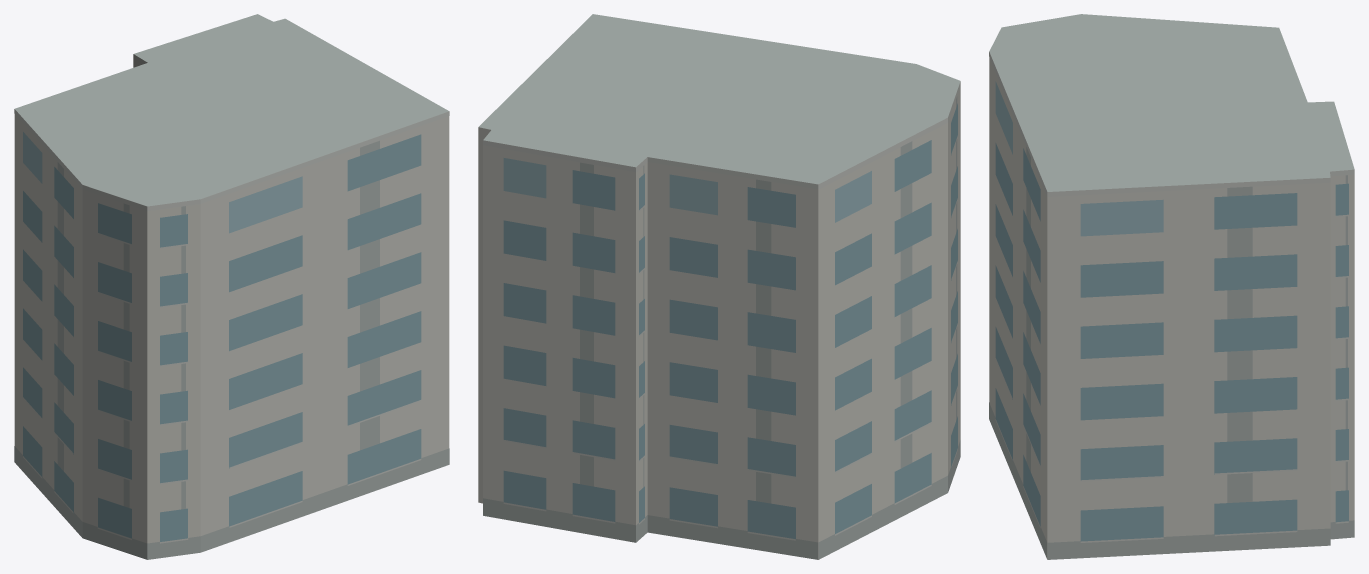
File: residential-10ee9e5d-5438-4e8d-a77c-d50fe1a0ef8f.glb
3 renders of one model, left to right at view 1: azimuth 30°, elevation 25°; view 2: azimuth 150°, elevation 25°; view 3: azimuth 270°, elevation 25°, orthographic. The views are drawn at different scales.
Visible parts, largest first — view 1: residential-10ee9e5d-5438-4e8d-a77c-d50fe1a0ef8f.tmp; view 2: residential-10ee9e5d-5438-4e8d-a77c-d50fe1a0ef8f.tmp; view 3: residential-10ee9e5d-5438-4e8d-a77c-d50fe1a0ef8f.tmp.
Part boxes in pixels (x1,y1,x2,y2): residential-10ee9e5d-5438-4e8d-a77c-d50fe1a0ef8f.tmp: [14, 14, 449, 559]; residential-10ee9e5d-5438-4e8d-a77c-d50fe1a0ef8f.tmp: [478, 14, 960, 559]; residential-10ee9e5d-5438-4e8d-a77c-d50fe1a0ef8f.tmp: [989, 14, 1354, 559].
Bounding box in the file's own units: 18.69 × 18 × 16.22.
